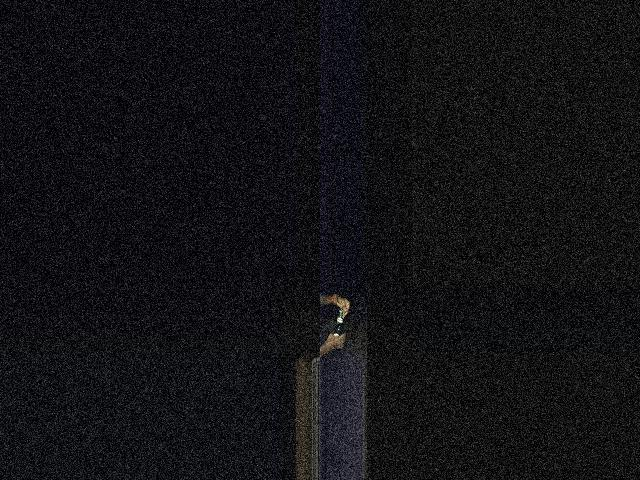beer: (330, 310, 344, 352)
